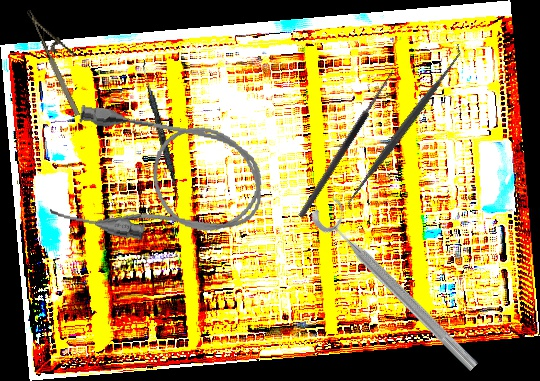Cannula: (47, 102, 272, 258)
Fixation Ring: (307, 192, 492, 376)
Hook Surgical: (290, 63, 397, 220)
Needle Holder: (26, 0, 98, 118)
Spatula Surgical: (336, 41, 473, 213), (136, 59, 185, 201)
